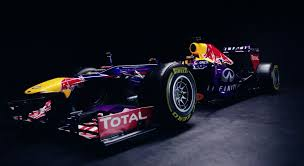FormulaOneCar: (6, 24, 282, 153)
